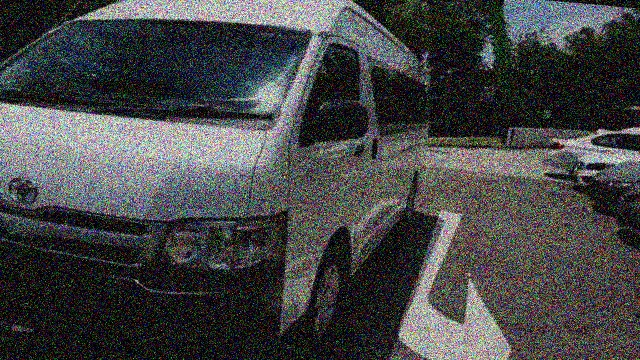van: (0, 0, 443, 358)
